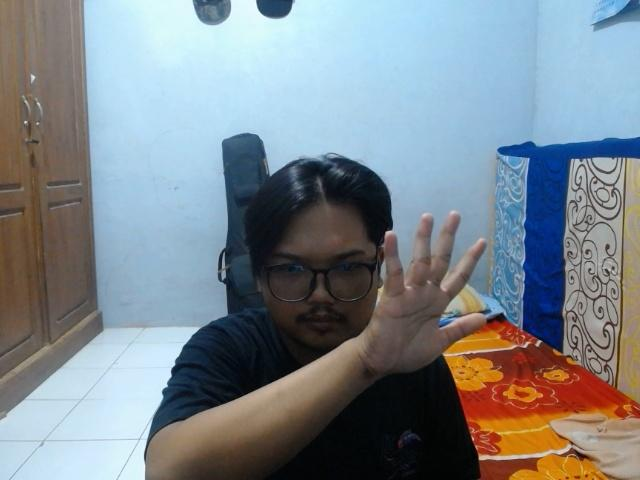Release: (351, 209, 492, 384)
